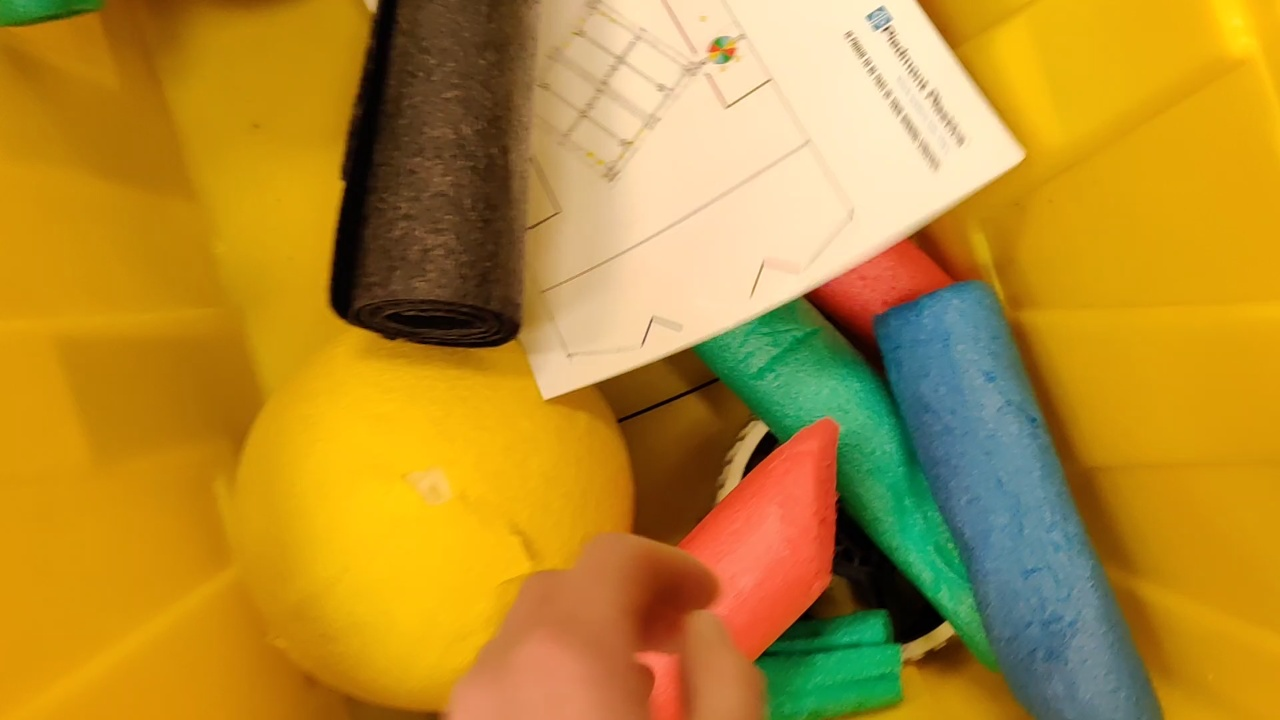Ball: (225, 311, 645, 709)
